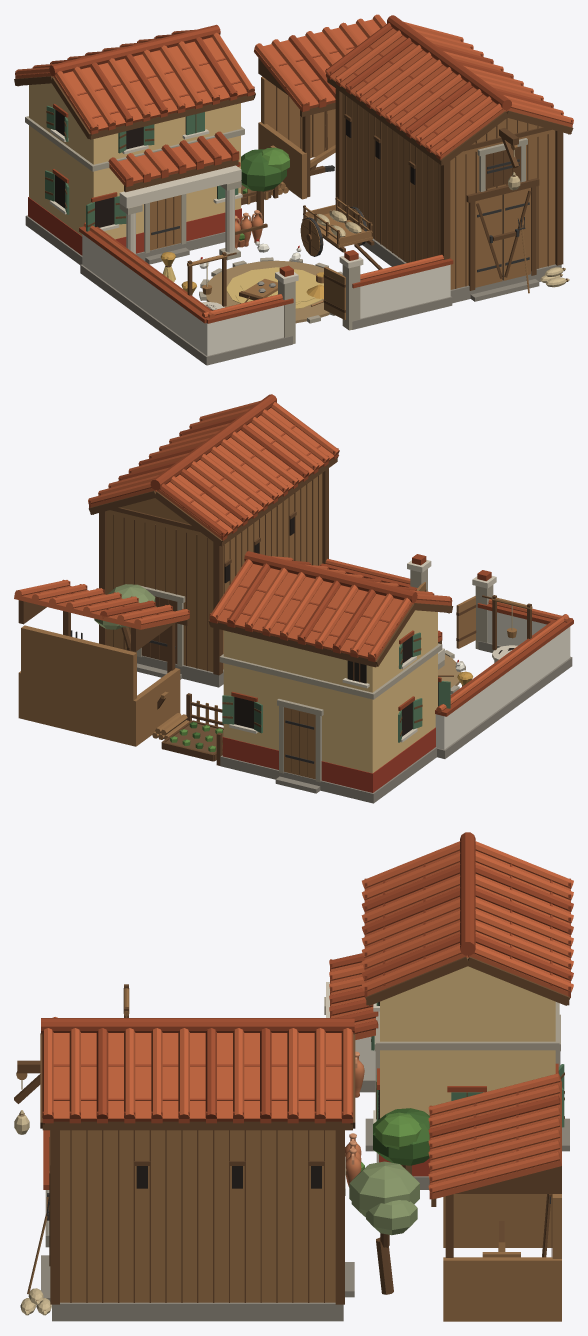
Rendered from Gutshof.fbx.
3 views of the same model, one above another, from view 1: azimuth 30°, elevation 25°; view 2: azimuth 150°, elevation 25°; view 3: azimuth 270°, elevation 25° (orthographic). The views are drawn at different scales.
Visible parts, largest first — view 1: Gutshof_0; view 2: Gutshof_0; view 3: Gutshof_0.
Boxes of the visible parts, x1,y1,x2,y2 form: Gutshof_0: (14, 14, 573, 365); Gutshof_0: (14, 394, 573, 803); Gutshof_0: (14, 832, 573, 1321).
Size of the model in its own units: 3.65 by 1.85 by 3.54.
